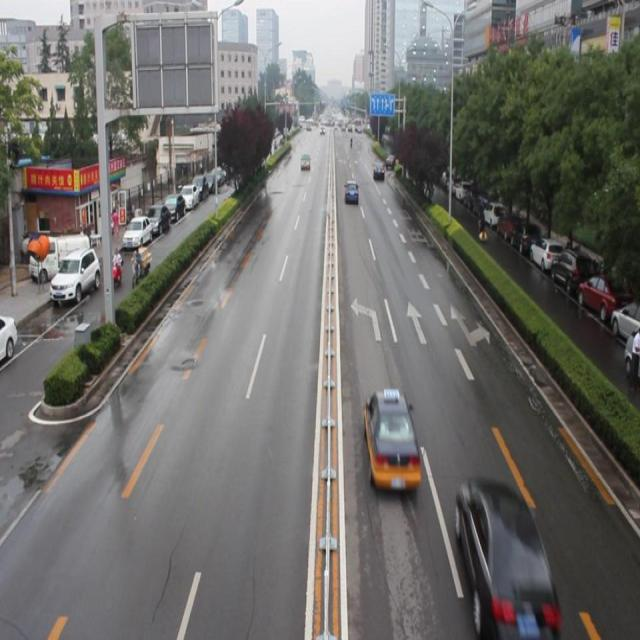car: (453, 482, 557, 630), (362, 386, 420, 491), (343, 180, 359, 203), (371, 162, 385, 182)
